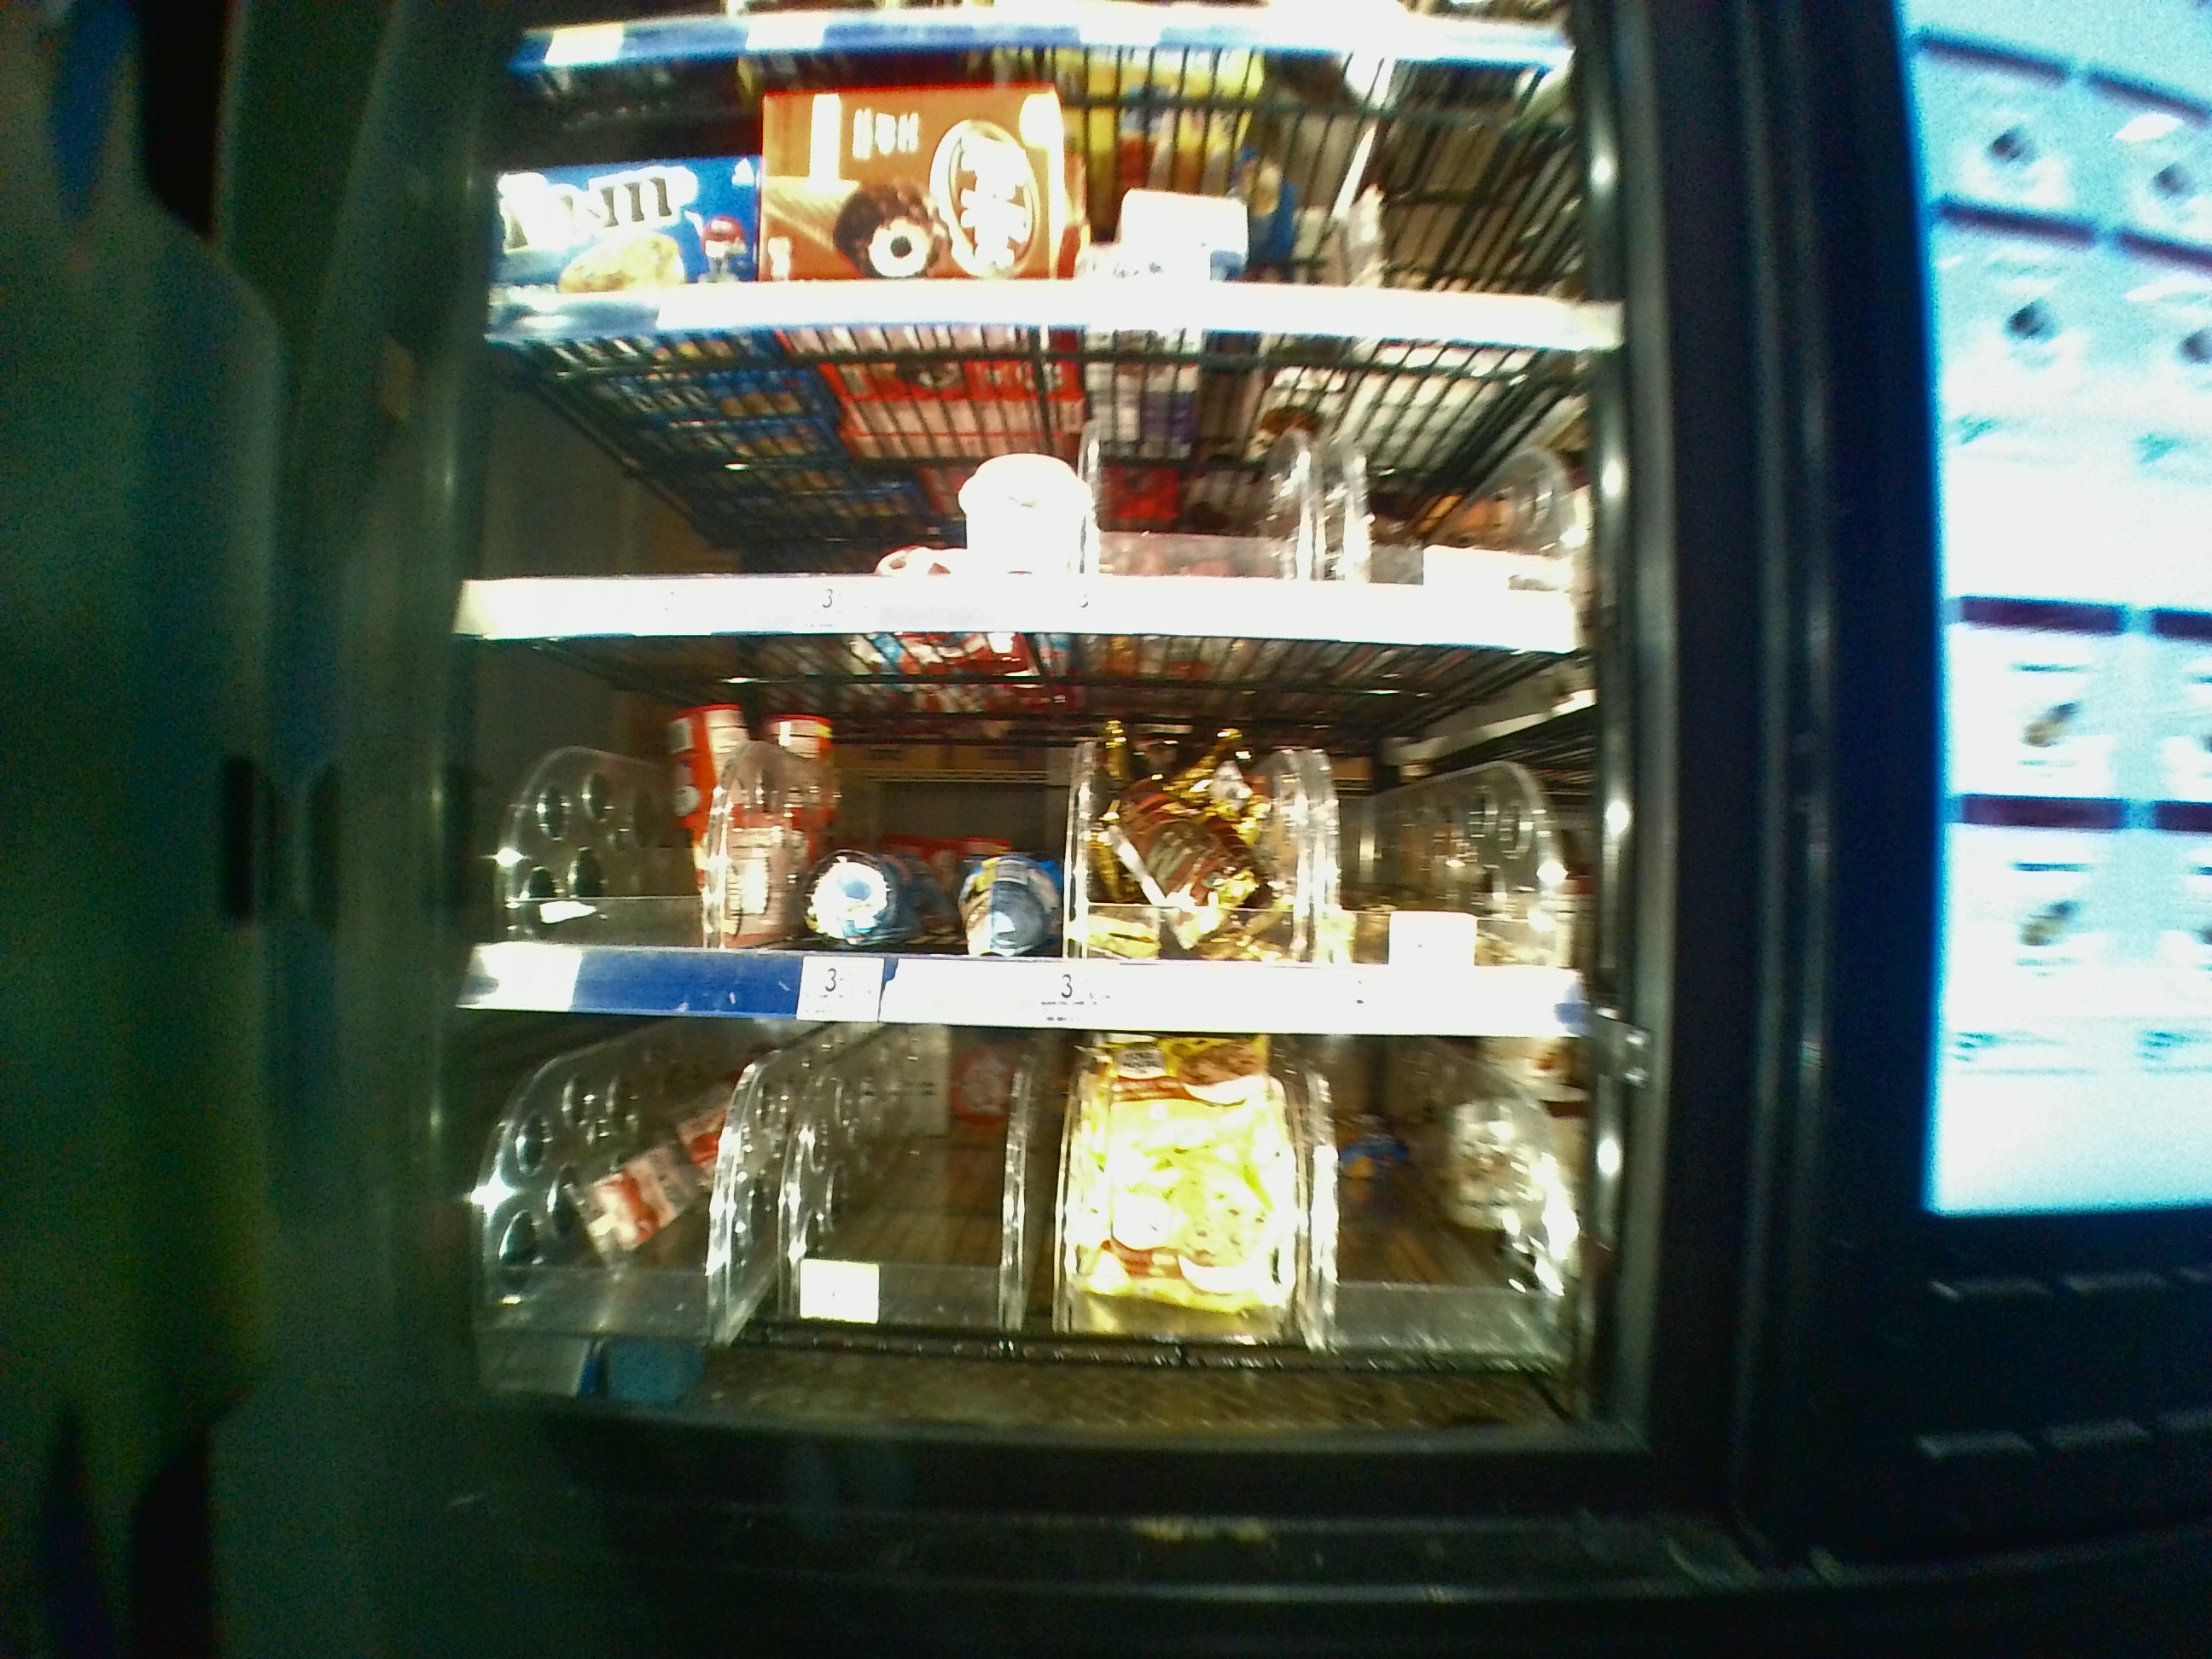shelf: (462, 1040, 1601, 1453), (449, 652, 1595, 1023), (460, 331, 1594, 638)
